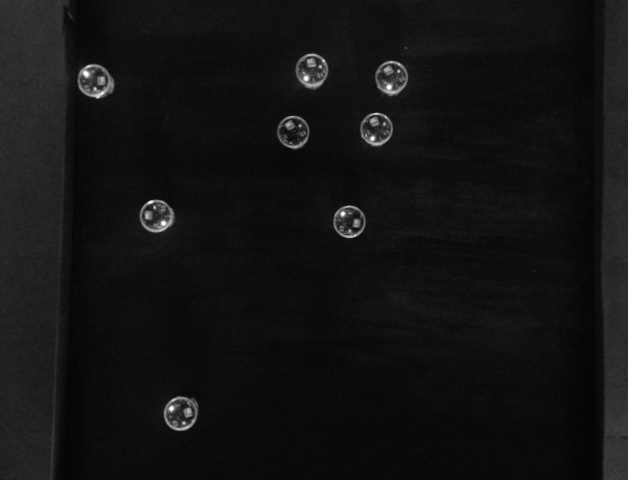epuck_2: (163, 393, 199, 431), (137, 198, 176, 233), (373, 60, 409, 96), (293, 52, 328, 89), (359, 112, 395, 147), (77, 65, 115, 98), (276, 116, 311, 151), (331, 204, 367, 237)
